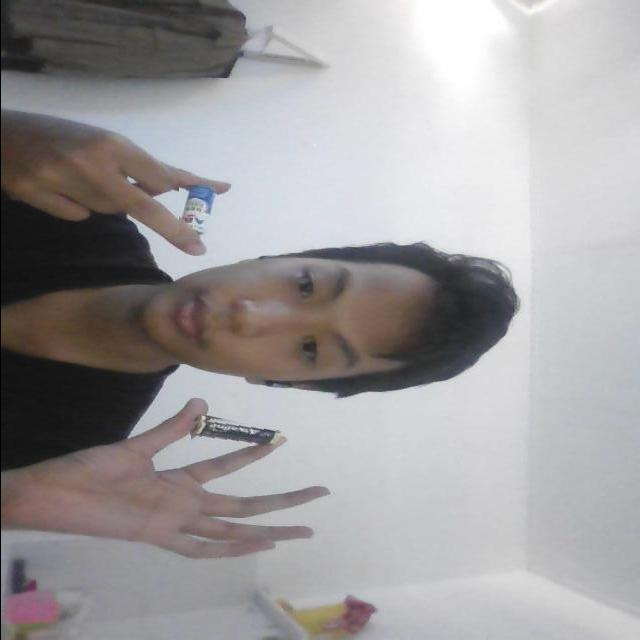Hazard: (189, 414, 281, 446), (178, 186, 216, 240)
